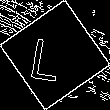L_N: (35, 27, 75, 83)
